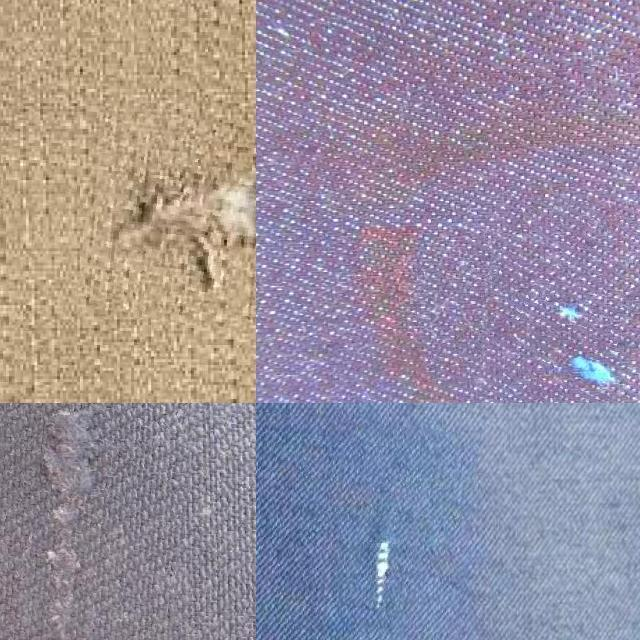other: (79, 114, 256, 329)
stains: (256, 416, 471, 640), (0, 403, 187, 640), (478, 198, 640, 403)
